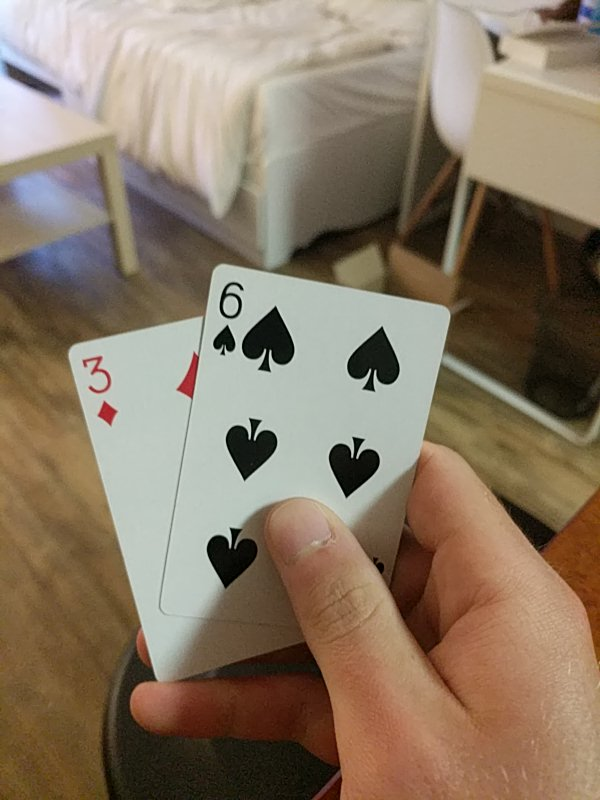Diamonds: (70, 317, 304, 688)
Spades: (160, 264, 449, 626)
